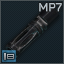MP7A1 4.6x30 flash hider: (0, 0, 64, 64)
